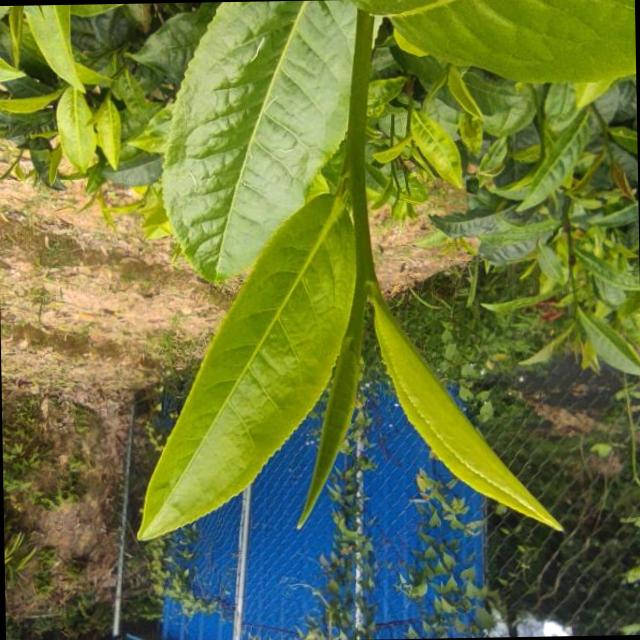Stem: (355, 256, 373, 281)
